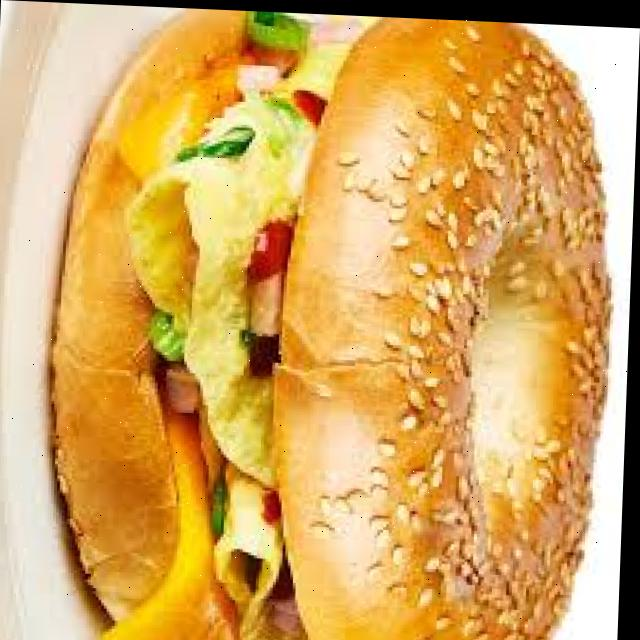Bagel: (279, 13, 612, 640)
